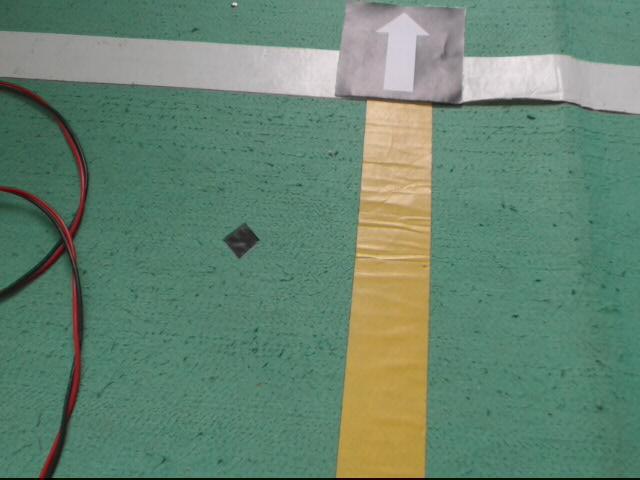straight: (336, 2, 470, 108)
